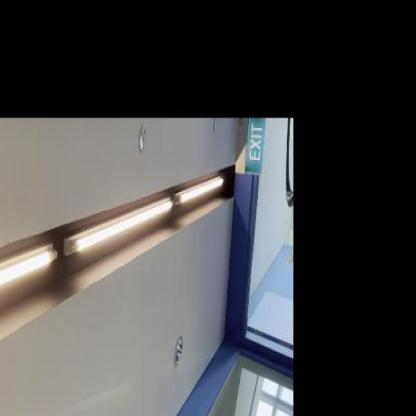light_on: (63, 171, 178, 275), (0, 220, 62, 349), (179, 162, 224, 213)
